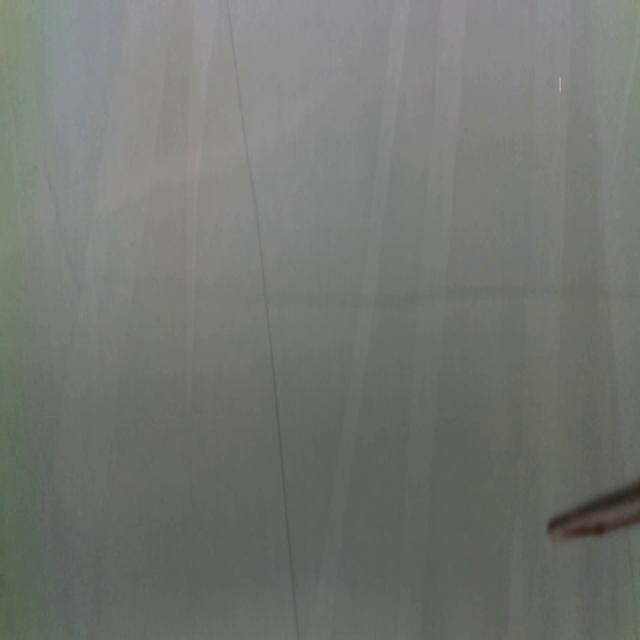color bleeding: (78, 262, 640, 313)
crease: (311, 0, 409, 639), (226, 0, 301, 640), (392, 0, 468, 630), (505, 0, 569, 639), (180, 0, 216, 434)
hole: (557, 74, 563, 96)
